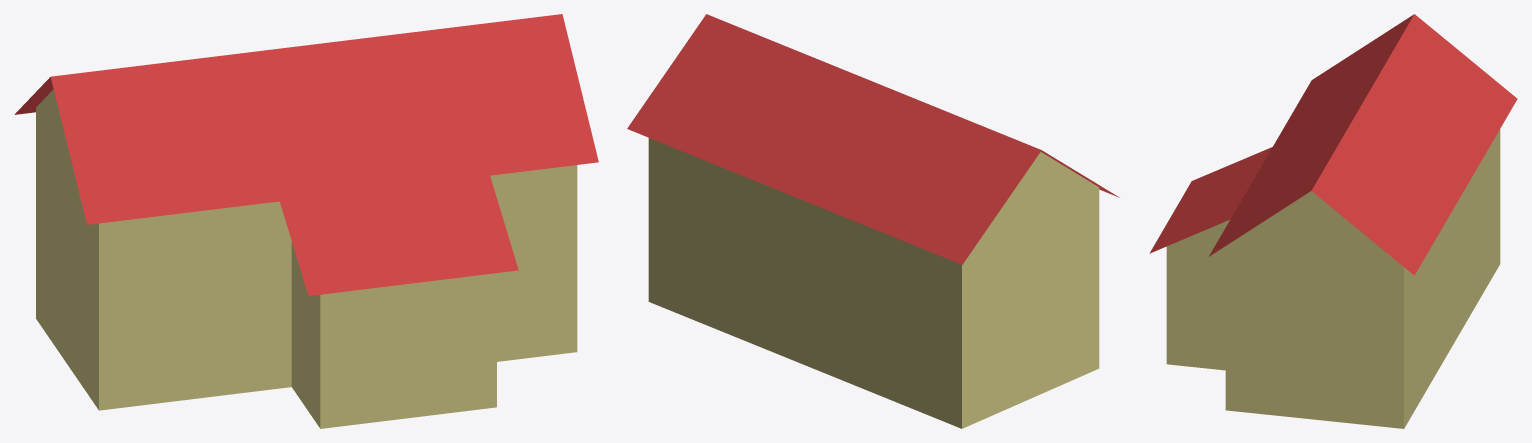
The picture shows the model from 3 angles, left to right: view 1: azimuth 30°, elevation 25°; view 2: azimuth 150°, elevation 25°; view 3: azimuth 270°, elevation 25°; orthographic projection. The views are drawn at different scales.
Size of the model in its own units: 24.76 by 19.43 by 13.66.
